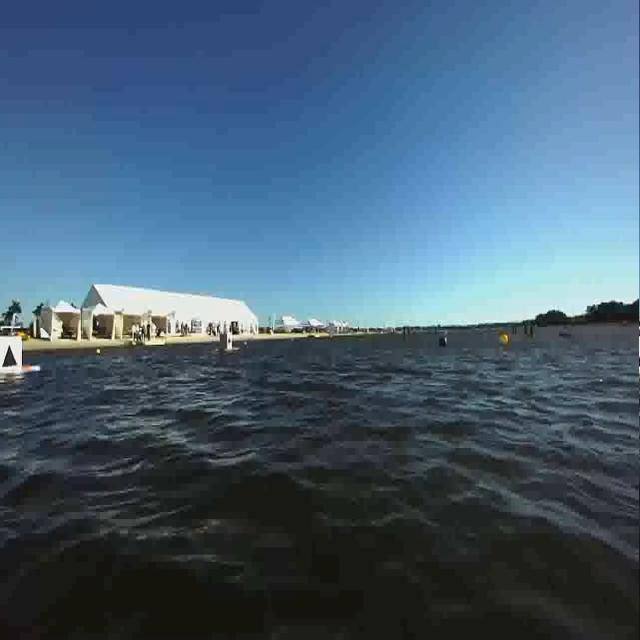black-buoy: (440, 336, 449, 350)
yellow-buoy: (500, 333, 510, 348)
